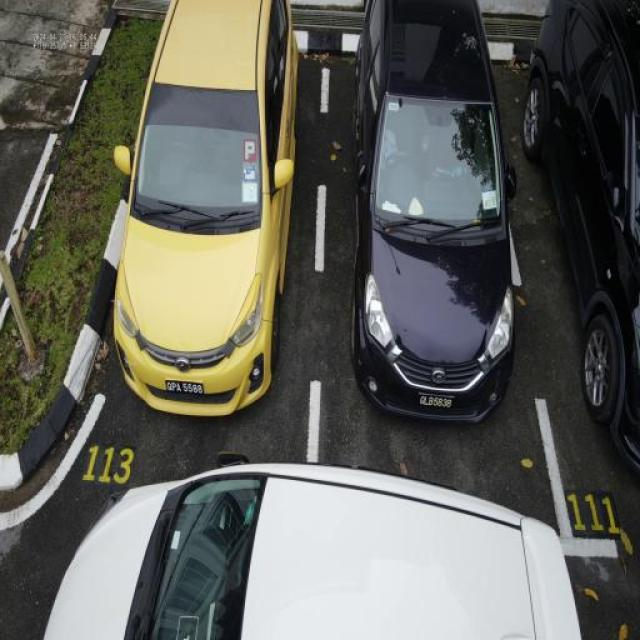Legalparking: (114, 0, 296, 415), (346, 0, 515, 421), (522, 0, 639, 474)
illegalparking: (45, 455, 579, 639)
